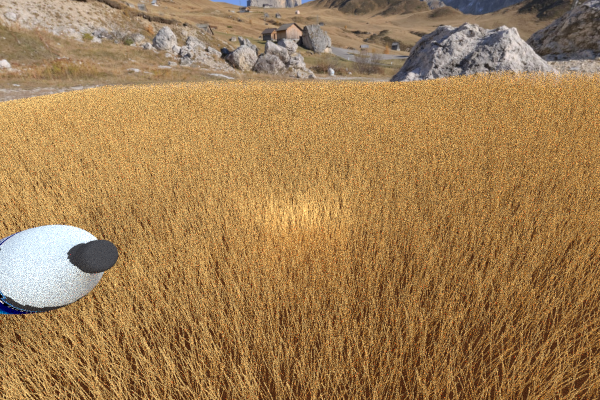bottle: (0, 224, 118, 315)
can: (252, 112, 307, 143), (214, 87, 247, 105)
